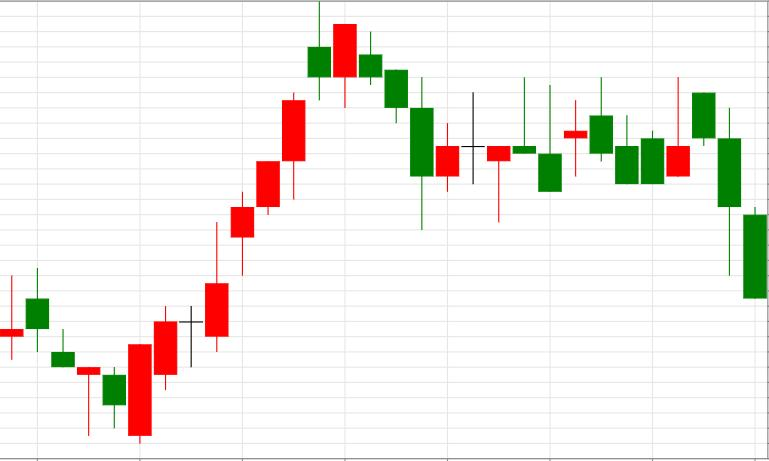bullish_engulfing_rise: (26, 269, 151, 445)
shooting_star_fall: (129, 0, 331, 445)
